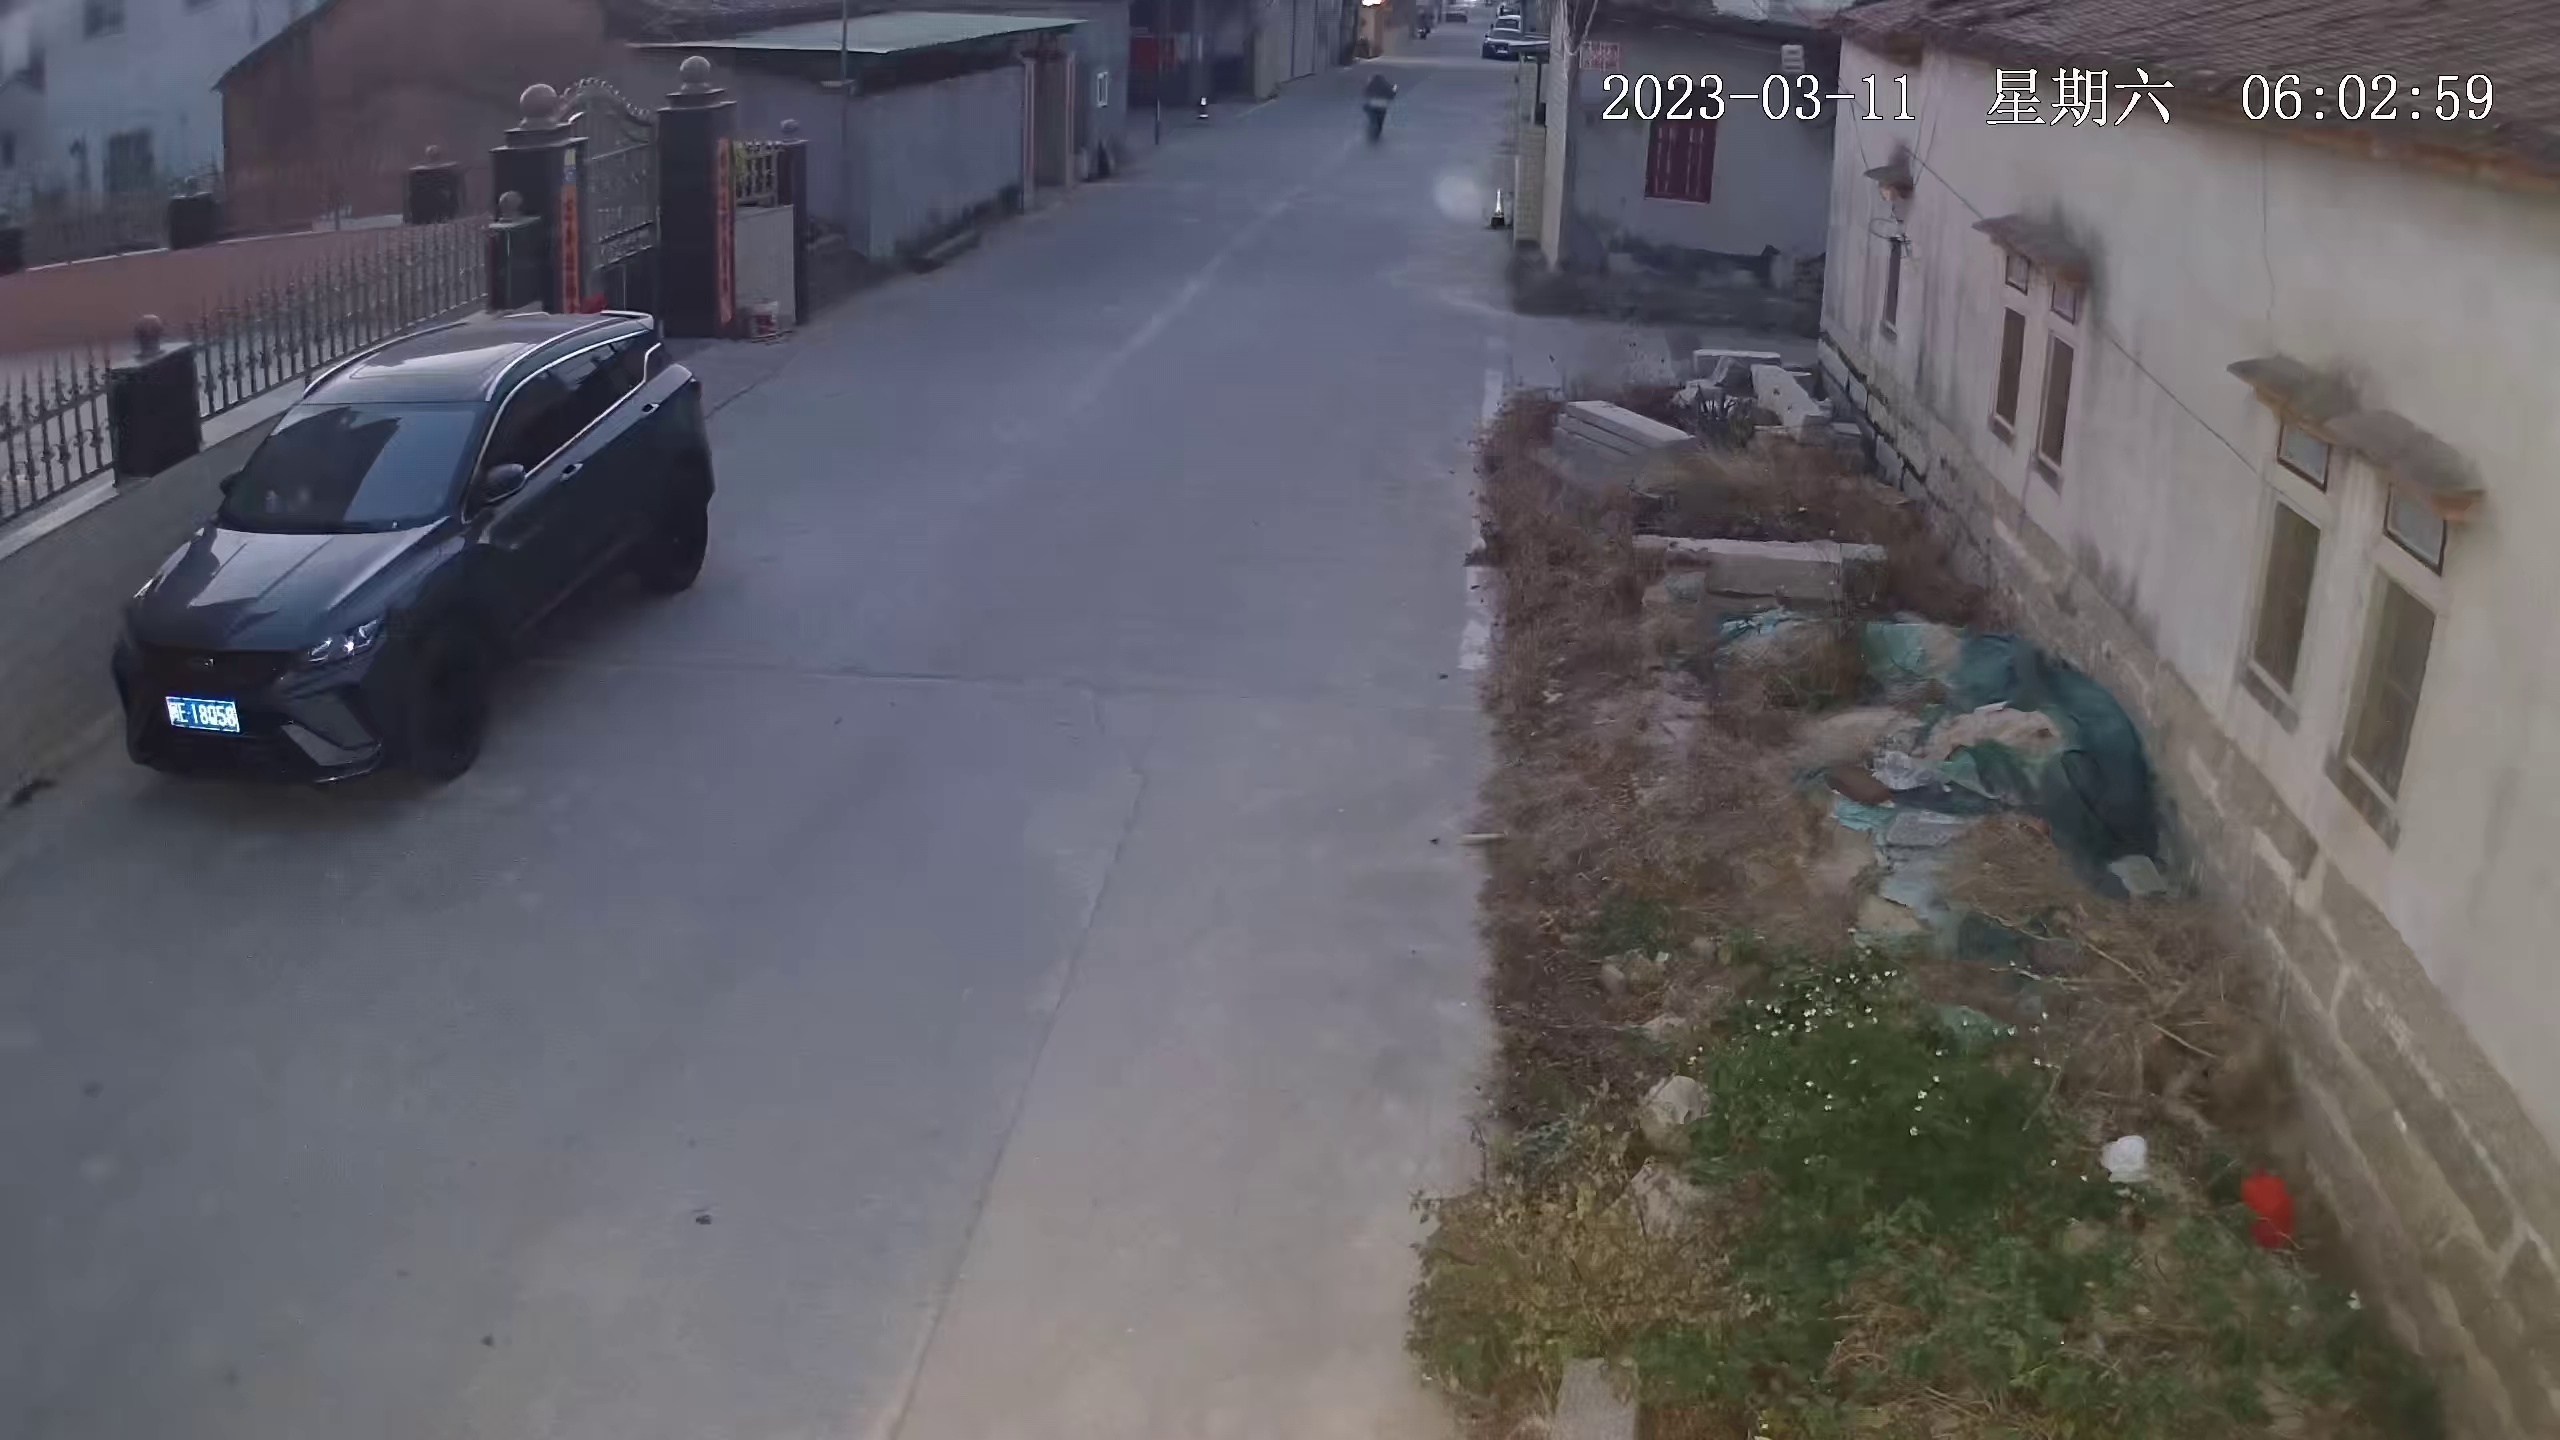motorcycle: (1356, 63, 1401, 151)
sedan: (1480, 19, 1526, 63)
suv: (104, 304, 719, 795)
